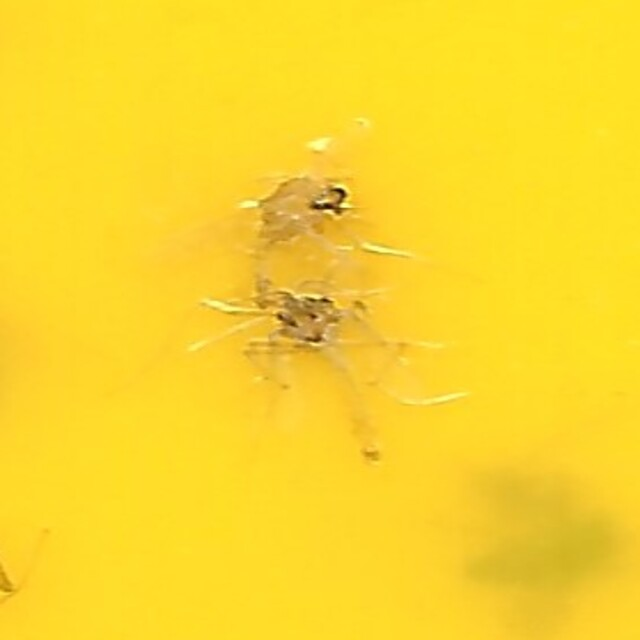Nematocera: (229, 266, 411, 474), (234, 166, 365, 281)
